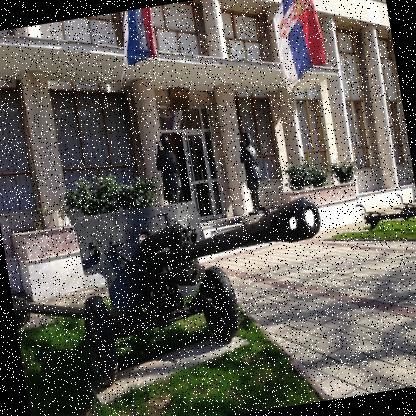rs: (268, 1, 332, 98)
